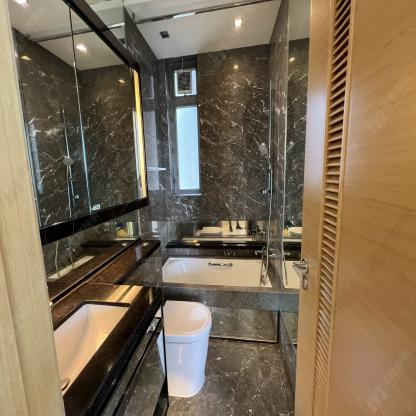Bathtub: (162, 254, 281, 312)
Toilet: (163, 300, 213, 398)
Toilet Sink: (50, 281, 162, 416)
